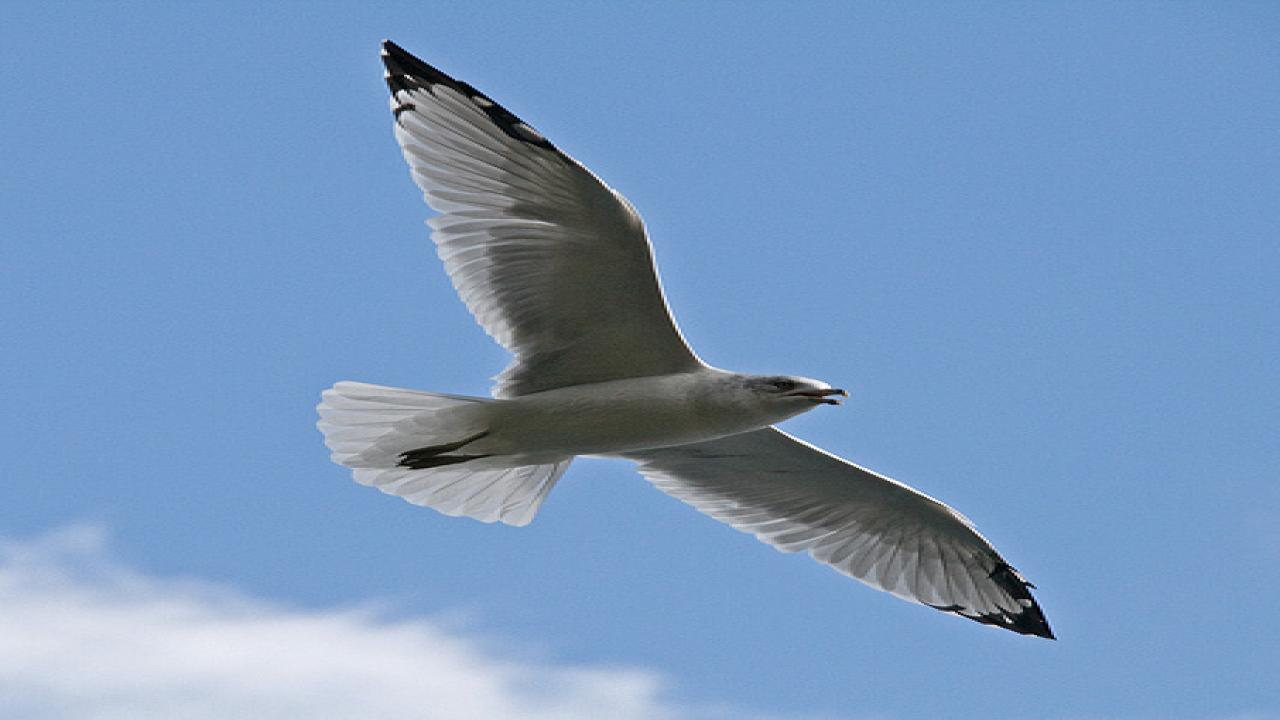Bird: (298, 31, 1071, 646)
